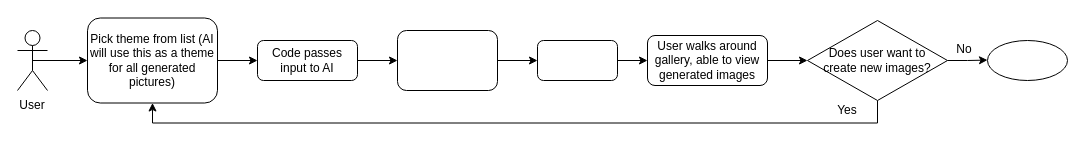
This 1085x148 diagram has some shape labels left out. The centre of each missing label's shape, as x and y in pixels:
AI generates images with theme in mind: the point at 447,60
End program: the point at 1027,60
Unity displays images: the point at 577,60
